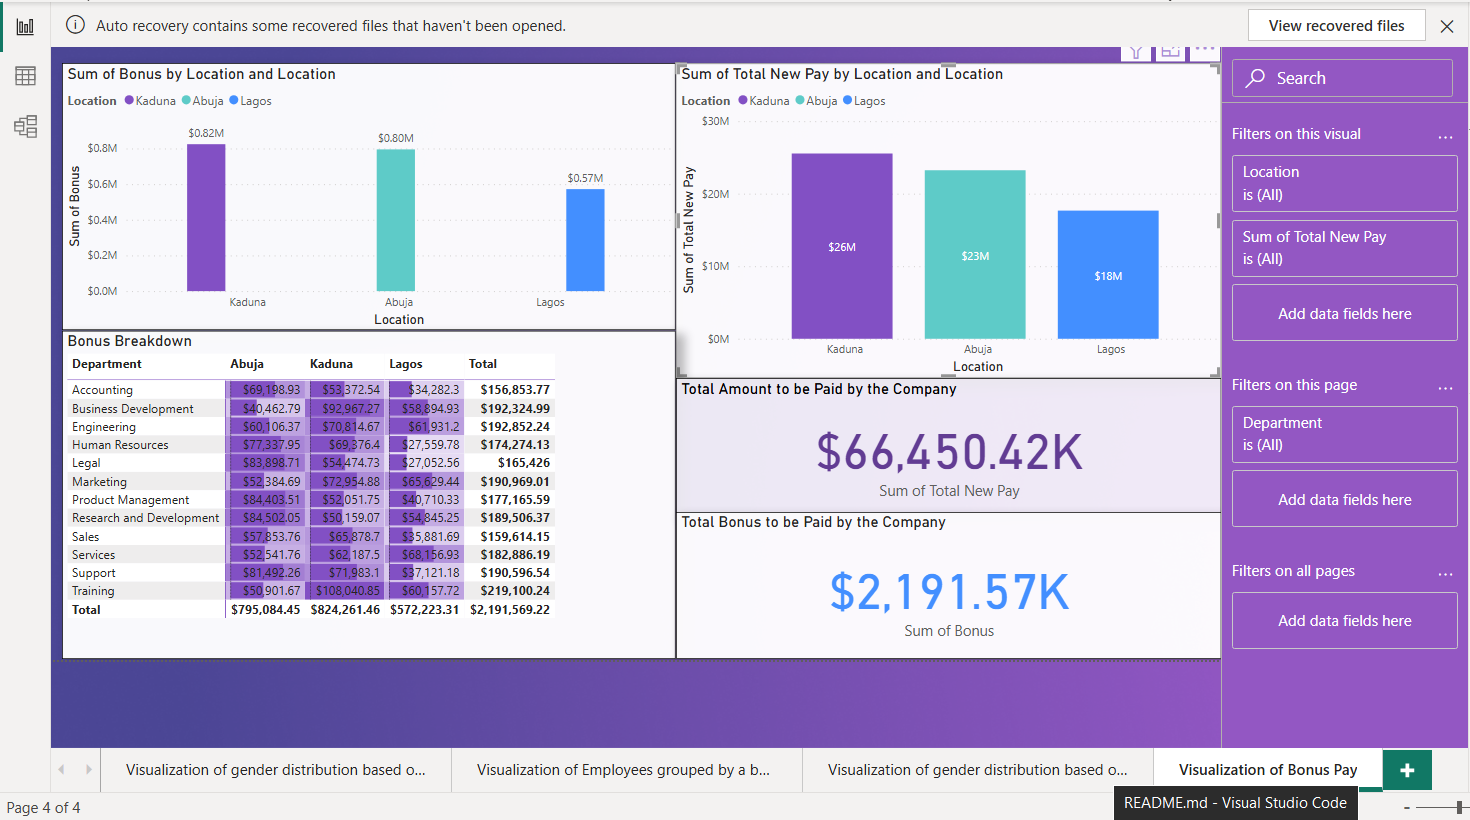

What the dashboard file says about the page in this screenshot:
{"tool":"powerbi","page":{"name":"Visualization of Bonus Pay","canvas":[1280,720],"ordinal":3},"visuals":[{"type":"clusteredColumnChart","fields":{"Category":["Merge1 Employee New Salary.Location"],"Y":["Sum(Merge1 Employee New Salary.Bonus)"],"Series":["Merge1 Employee New Salary.Location"]},"box":[12.3,67.2,671,292.3],"z":0},{"type":"columnChart","fields":{"Y":["Sum(Merge1 Employee New Salary.Total New Pay)"],"Series":["Merge1 Employee New Salary.Location"],"Category":["Merge1 Employee New Salary.Location"]},"box":[683.4,67.2,596.9,344.4],"z":1},{"type":"pivotTable","title":"Bonus Breakdown","fields":{"Columns":["Merge1 Employee New Salary.Location"],"Rows":["Merge1 Employee New Salary.Department"],"Values":["Sum(Merge1 Employee New Salary.Bonus)"]},"box":[12.3,359.5,671,359.5],"z":2},{"type":"card","title":"Total Amount to be Paid by the Company","fields":{"Values":["Sum(Merge1 Employee New Salary.Total New Pay)"]},"box":[683.4,411.7,596.9,146.8],"z":3},{"type":"card","title":"Total Bonus to be Paid by the Company","fields":{"Values":["Sum(Merge1 Employee New Salary.Bonus)"]},"box":[683.4,558.5,596.9,160.5],"z":4}]}

Visuals, with their boxes on the page's 1280x720 design canvas (x1, y1, x2, y2). These are canvas units, not pixel positions in the 1470x820 screenshot, which may show the page scaled, cropped or inside an application window:
clusteredColumnChart - Merge1 Employee New Salary.Location x Sum(Merge1 Employee New Salary.Bonus): bbox=[12, 67, 683, 360]
columnChart - Sum(Merge1 Employee New Salary.Total New Pay) x Merge1 Employee New Salary.Location: bbox=[683, 67, 1280, 412]
"Bonus Breakdown" pivotTable: bbox=[12, 360, 683, 719]
"Total Amount to be Paid by the Company" card: bbox=[683, 412, 1280, 558]
"Total Bonus to be Paid by the Company" card: bbox=[683, 558, 1280, 719]
